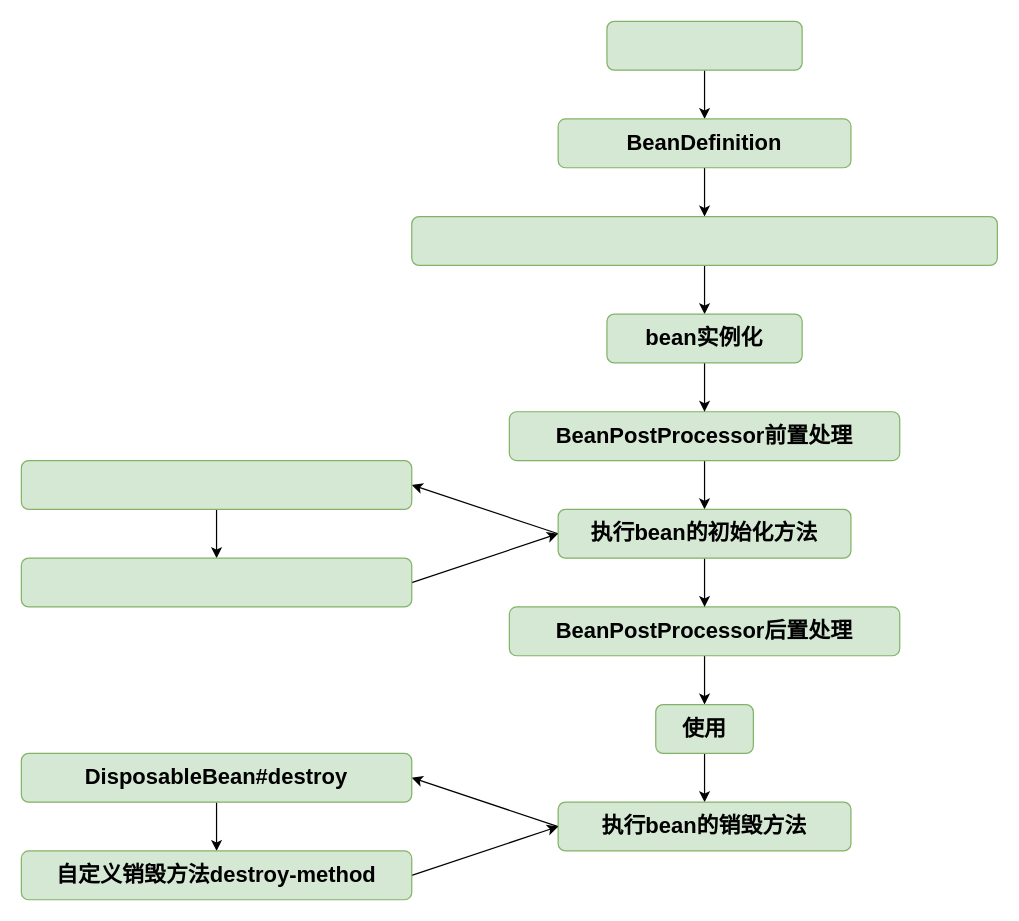
The diagram is 1019 pixels wide and 921 high, and some of its shapes have lost their labels. The shapes that lost their labels are listed below. From the top down, each one's centre as x and y in pixels, then its label:
At point 704,45: "XML文件".
At point 704,240: "BeanFactoryPostProcessor修改BeanDefinition".
At point 216,484: "InitializingBean#afterPropertiesSet".
At point 216,582: "自定义初始化方法init-method".
